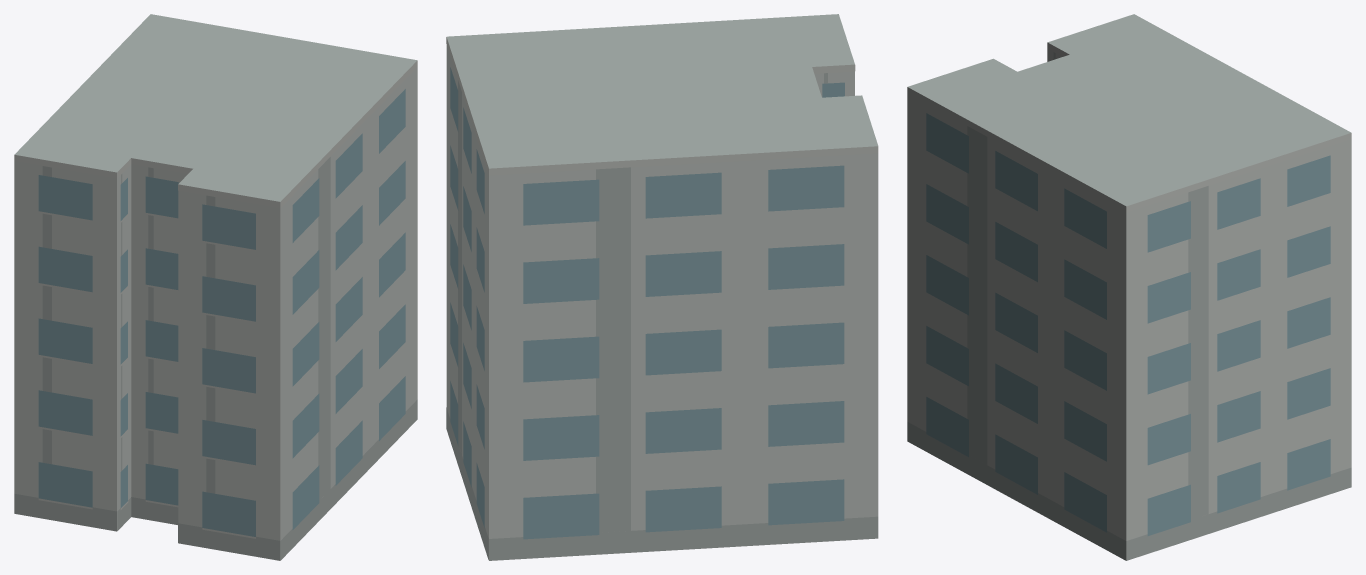
The model's file is residential-58be7b7c-72c9-46e2-b5de-14ea400b878e.glb.
The picture shows the model from 3 angles, left to right: view 1: azimuth 30°, elevation 25°; view 2: azimuth 150°, elevation 25°; view 3: azimuth 270°, elevation 25°; orthographic projection. The views are drawn at different scales.
Parts seen in each view (by area): view 1: residential-58be7b7c-72c9-46e2-b5de-14ea400b878e.tmp; view 2: residential-58be7b7c-72c9-46e2-b5de-14ea400b878e.tmp; view 3: residential-58be7b7c-72c9-46e2-b5de-14ea400b878e.tmp.
Boxes of the visible parts, left/top/right/bottom form: residential-58be7b7c-72c9-46e2-b5de-14ea400b878e.tmp: left=14, top=14, right=417, bottom=560; residential-58be7b7c-72c9-46e2-b5de-14ea400b878e.tmp: left=446, top=14, right=878, bottom=560; residential-58be7b7c-72c9-46e2-b5de-14ea400b878e.tmp: left=907, top=14, right=1351, bottom=560.
Bounding box in the file's own units: 16.07 × 13.8 × 15.68.
